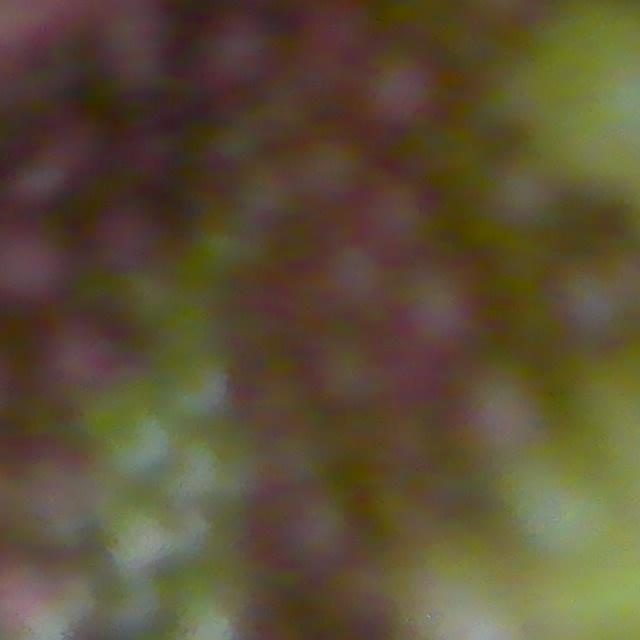SeaGrape: (489, 431, 622, 568), (39, 317, 121, 403), (99, 401, 180, 483), (103, 498, 179, 574), (2, 225, 72, 299), (367, 51, 436, 123), (288, 492, 356, 565), (300, 137, 366, 201), (369, 178, 432, 242), (411, 270, 462, 346)
